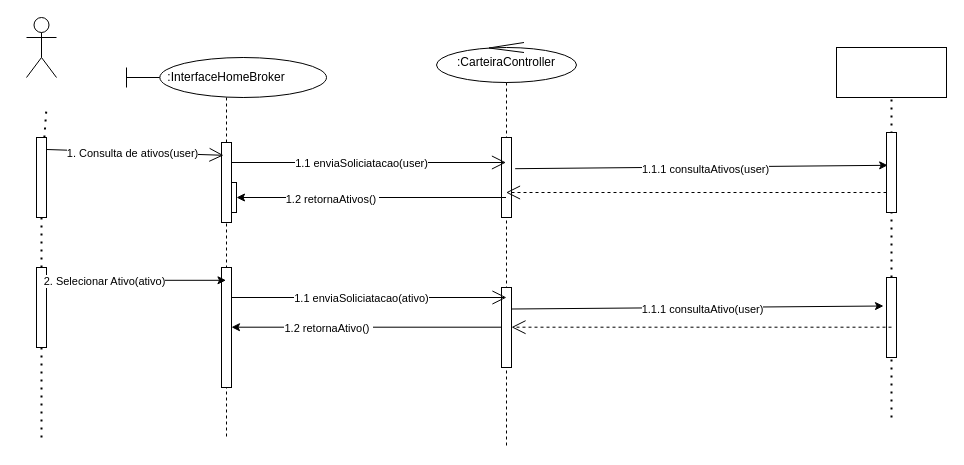
Image size: 964x465. Some labels were removed from this diagram. The box of each missing label's shape, as (x1, y1, x2, y2) in pixels:
: Usuário: (26, 16, 56, 78)
carteira: Carteira: (836, 46, 946, 98)
